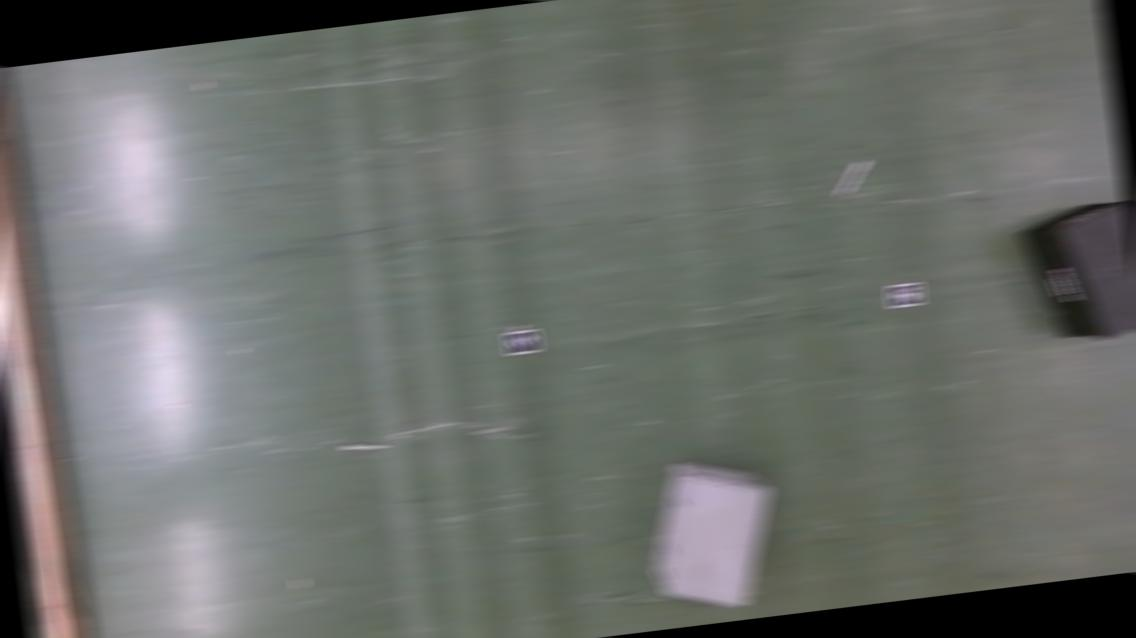probes: (832, 158, 868, 194), (341, 439, 384, 455)
rako: (640, 449, 784, 614), (1015, 196, 1136, 346)
